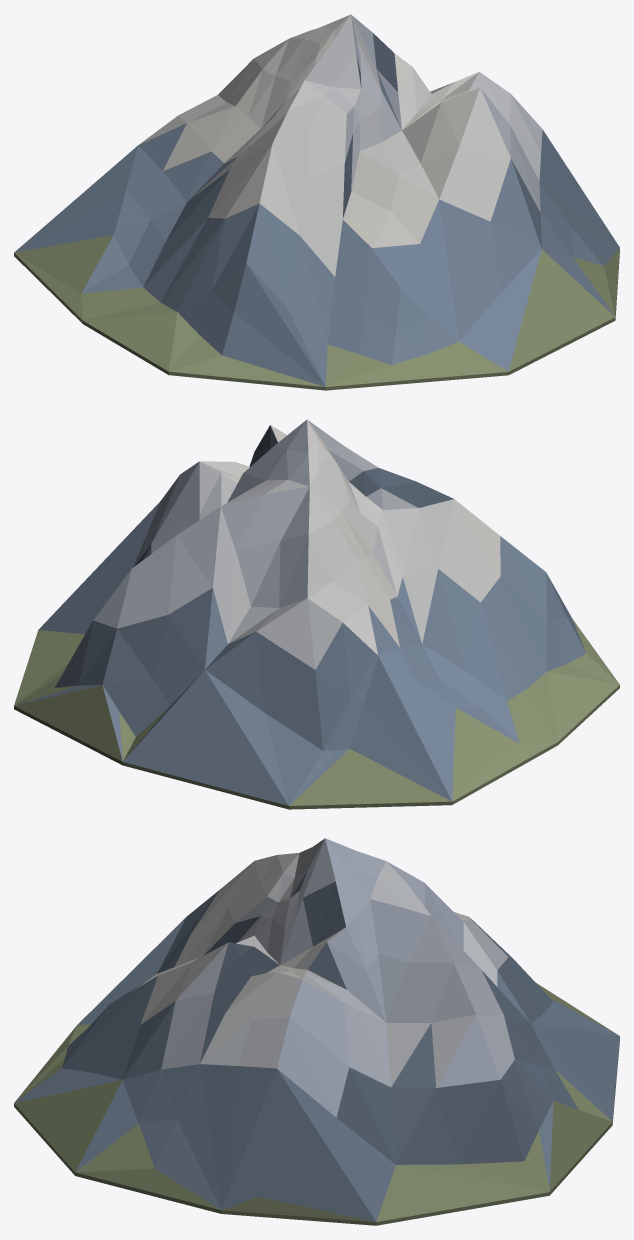
File: massif_frost_crown.glb
The picture shows the model from 3 angles, top to bottom: view 1: azimuth 30°, elevation 25°; view 2: azimuth 150°, elevation 25°; view 3: azimuth 270°, elevation 25°; orthographic projection. The views are drawn at different scales.
Visible parts, largest first — view 1: massif_frost_crown; view 2: massif_frost_crown; view 3: massif_frost_crown.
Boxes of the visible parts, <box> form: massif_frost_crown: <box>14,14,619,390</box>; massif_frost_crown: <box>14,419,619,809</box>; massif_frost_crown: <box>14,838,619,1225</box>.
Size of the model in its own units: 975 by 472 by 980.
